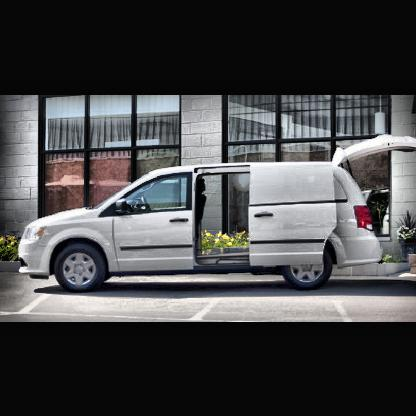Ram C-V Cargo Van Minivan 2012: (14, 161, 385, 309)
